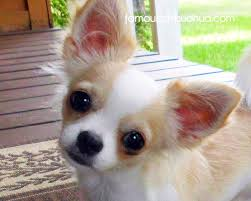chihuahua: (56, 25, 243, 200)
